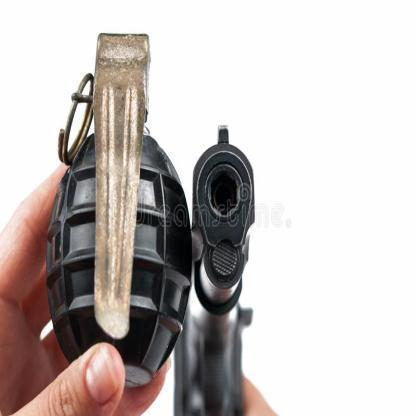Grenade: (46, 33, 192, 389)
Pistol: (173, 124, 255, 416)
